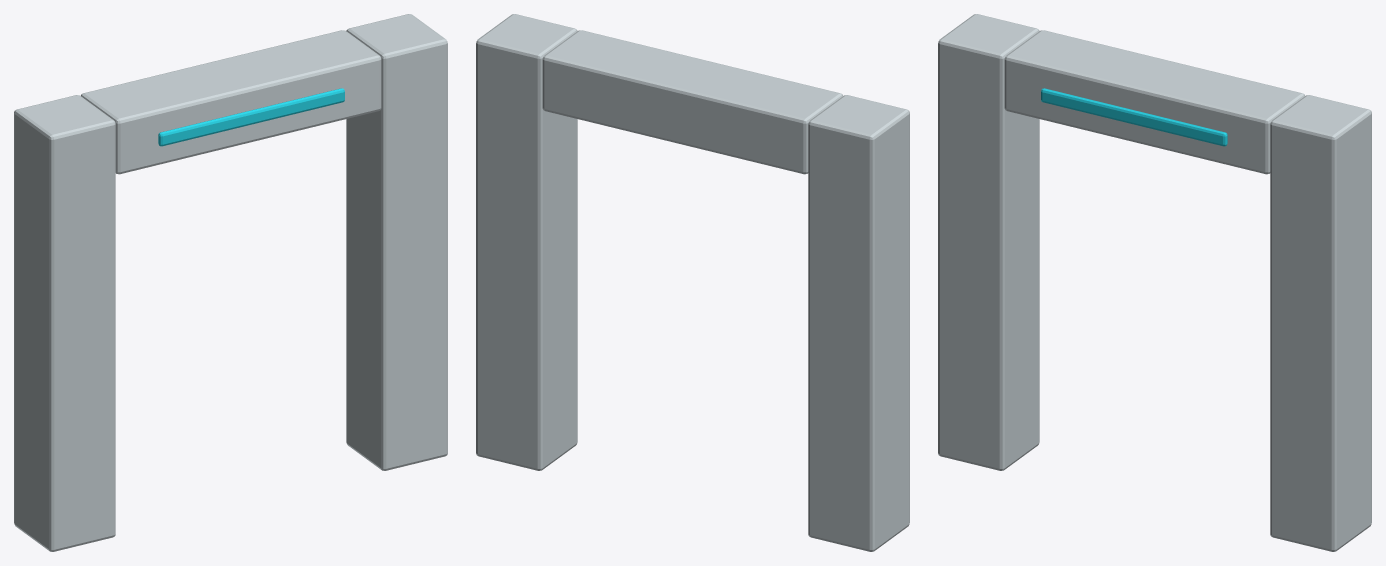
The model's file is CL_DoorFrame_3x3.fbx.
The picture shows the model from 3 angles, left to right: view 1: azimuth 30°, elevation 25°; view 2: azimuth 150°, elevation 25°; view 3: azimuth 330°, elevation 25°; orthographic projection.
Parts seen in each view (by area): view 1: Jamb, Jamb.001, Lintel, DoorStatus; view 2: Jamb, Jamb.001, Lintel; view 3: Jamb.001, Jamb, Lintel, DoorStatus.
Boxes of the visible parts, bbox=[...] form: Jamb: bbox=[14, 95, 115, 551]; Jamb.001: bbox=[346, 14, 447, 470]; Lintel: bbox=[81, 30, 381, 174]; DoorStatus: bbox=[158, 88, 344, 146]; Jamb: bbox=[808, 95, 909, 551]; Jamb.001: bbox=[476, 14, 577, 470]; Lintel: bbox=[542, 30, 842, 174]; Jamb.001: bbox=[1270, 95, 1371, 551]; Jamb: bbox=[938, 14, 1039, 470]; Lintel: bbox=[1004, 30, 1304, 174]; DoorStatus: bbox=[1041, 88, 1227, 146].
Bounding box in the file's own units: 3 × 3 × 0.54.
